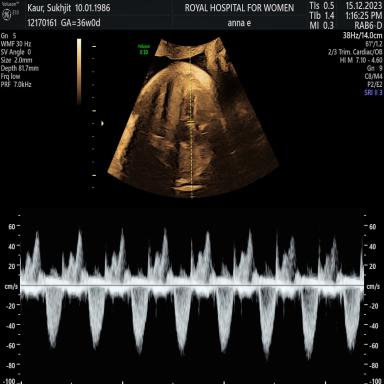Ultrasound-Waves: (25, 209, 363, 384)
